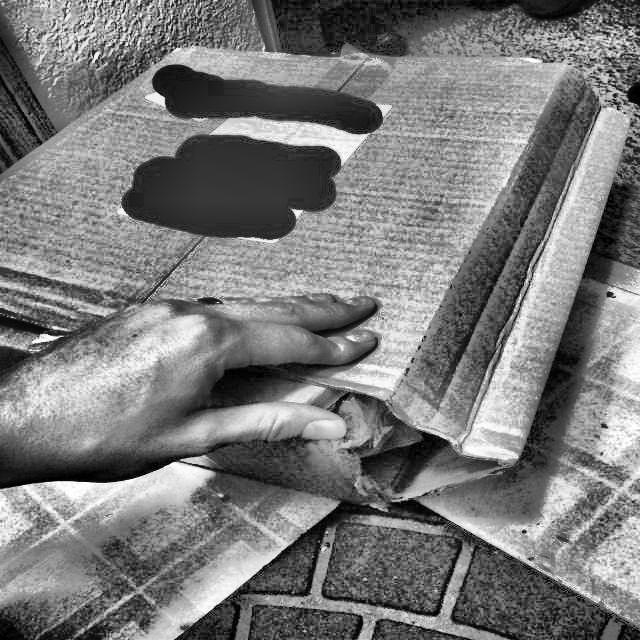box: (0, 42, 640, 524)
hole: (336, 388, 505, 508)
